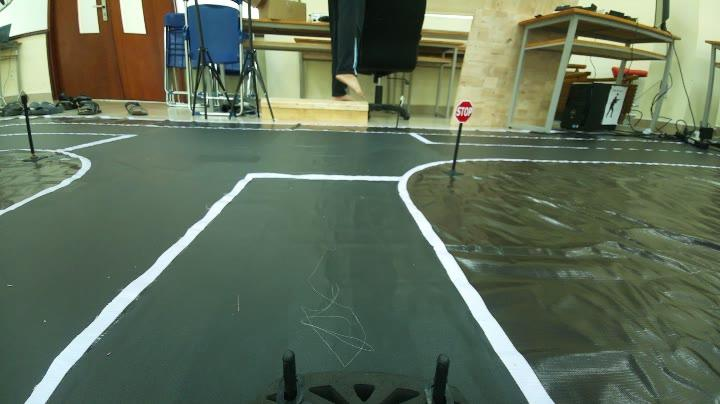stop: (454, 94, 474, 122)
